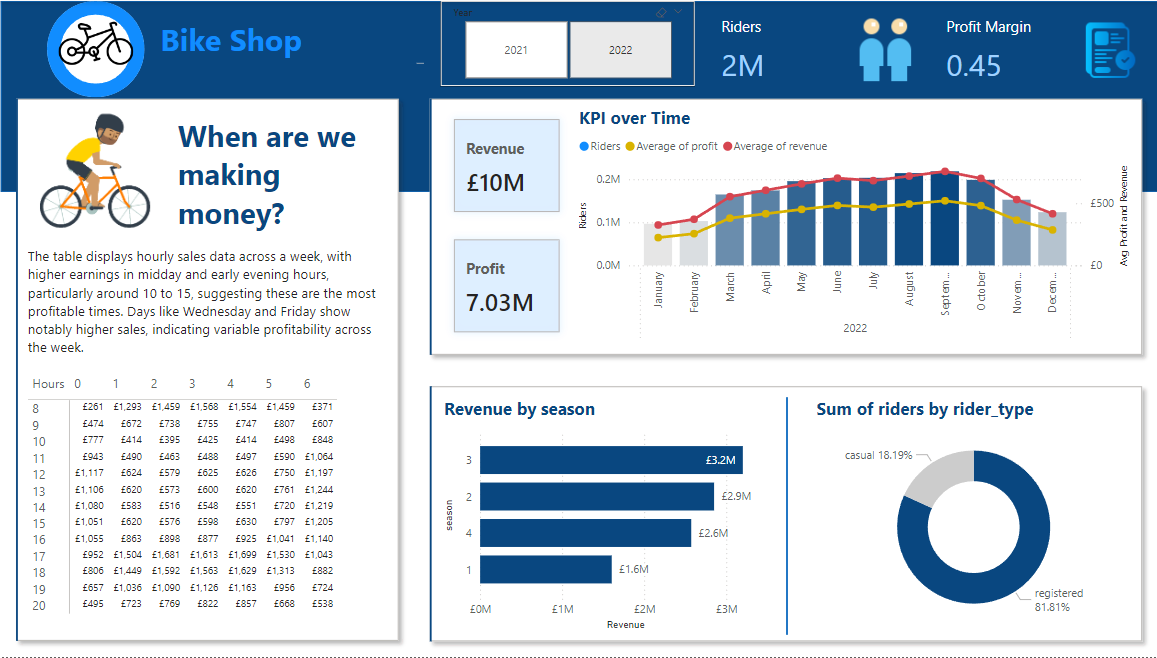

The page's visual inventory and layout, read from the dashboard file:
{"tool":"powerbi","page":{"name":"Page 1","canvas":[1280,720],"ordinal":0},"visuals":[{"type":"shape","box":[9.6,0,1270.7,209.9],"z":0},{"type":"cardVisual","fields":{"Data":["Min(Query1.riders)"]},"box":[9.6,90.6,454.2,629.8],"z":1000},{"type":"cardVisual","fields":{"Data":["Min(Query1.riders)"]},"box":[463.8,90.6,816.5,315.6],"z":2000},{"type":"cardVisual","fields":{"Data":["Min(Query1.riders)"]},"box":[463.8,406.2,816.5,314.2],"z":3000},{"type":"cardVisual","fields":{"Data":["Min(Query1.riders)"]},"box":[28.8,105.7,170.2,159.2],"z":4000},{"type":"pivotTable","fields":{"Rows":["Query1.hr"],"Values":["Avg(Query1.revenue)"],"Columns":["Query1.weekday"]},"box":[34,406.2,407.5,289.5],"z":5000},{"type":"textbox","box":[199,120.8,233.3,144.1],"z":6000},{"type":"textbox","box":[34.3,264.8,407.5,134.5],"z":7000},{"type":"lineClusteredColumnComboChart","title":"KPI over Time","fields":{"Category":["Query1.dteday.Variation.Date Hierarchy.Year","Query1.dteday.Variation.Date Hierarchy.Month","Query1.dteday.Variation.Date Hierarchy.Day"],"Y":["Sum(Query1.riders)"],"Y2":["Avg(Query1.profit)","Avg(Query1.revenue)"]},"box":[639.5,115.3,616.1,266.2],"z":8000},{"type":"clusteredBarChart","fields":{"Category":["Query1.season"],"Y":["Sum(Query1.revenue)"]},"box":[491.3,435,381.5,260.7],"z":9000},{"type":"donutChart","fields":{"Category":["Query1.rider_type"],"Y":["Sum(Query1.riders)"]},"box":[900.2,435,355.4,260.7],"z":10000},{"type":"shape","box":[723.2,435,299.1,260.7],"z":11000},{"type":"cardVisual","title":"KPI over Time","fields":{"Data":["Sum(Query1.revenue)","Sum(Query1.profit)"]},"box":[491.3,113.9,148.2,267.6],"z":12000},{"type":"cardVisual","fields":{"Data":["Sum(Query1.riders)","Query1.Profit Margin"]},"box":[783.5,0,496.7,93.3],"z":13000},{"type":"shape","box":[60.4,0,107,105.7],"z":14000},{"type":"image","box":[64.5,0,98.8,93.3],"z":15000},{"type":"textbox","title":"Bike Shop","box":[179.8,19.2,299.1,54.9],"z":16000},{"type":"slicer","fields":{"Values":["Query1.Year"]},"box":[492.6,0,278.6,93.3],"z":17000}]}

Visuals, with their boxes in screenshot pixels (x1, y1, x2, y2), scaled from the page's 1280x720 canvas onto the 1157x658 screenshot:
shape: pyautogui.locateOnScreen(9, 0, 1156, 192)
cardVisual - Min(Query1.riders): pyautogui.locateOnScreen(9, 83, 419, 657)
cardVisual - Min(Query1.riders): pyautogui.locateOnScreen(419, 83, 1156, 371)
cardVisual - Min(Query1.riders): pyautogui.locateOnScreen(419, 371, 1156, 657)
cardVisual - Min(Query1.riders): pyautogui.locateOnScreen(26, 97, 180, 242)
pivotTable - Query1.hr x Avg(Query1.revenue): pyautogui.locateOnScreen(31, 371, 399, 636)
textbox: pyautogui.locateOnScreen(180, 110, 391, 242)
textbox: pyautogui.locateOnScreen(31, 242, 399, 365)
"KPI over Time" lineClusteredColumnComboChart: pyautogui.locateOnScreen(578, 105, 1135, 349)
clusteredBarChart - Query1.season x Sum(Query1.revenue): pyautogui.locateOnScreen(444, 398, 789, 636)
donutChart - Query1.rider_type x Sum(Query1.riders): pyautogui.locateOnScreen(814, 398, 1135, 636)
shape: pyautogui.locateOnScreen(654, 398, 924, 636)
"KPI over Time" cardVisual: pyautogui.locateOnScreen(444, 104, 578, 349)
cardVisual - Sum(Query1.riders) x Query1.Profit Margin: pyautogui.locateOnScreen(708, 0, 1156, 85)
shape: pyautogui.locateOnScreen(55, 0, 151, 97)
image: pyautogui.locateOnScreen(58, 0, 148, 85)
"Bike Shop" textbox: pyautogui.locateOnScreen(163, 18, 433, 68)
slicer - Query1.Year: pyautogui.locateOnScreen(445, 0, 697, 85)
